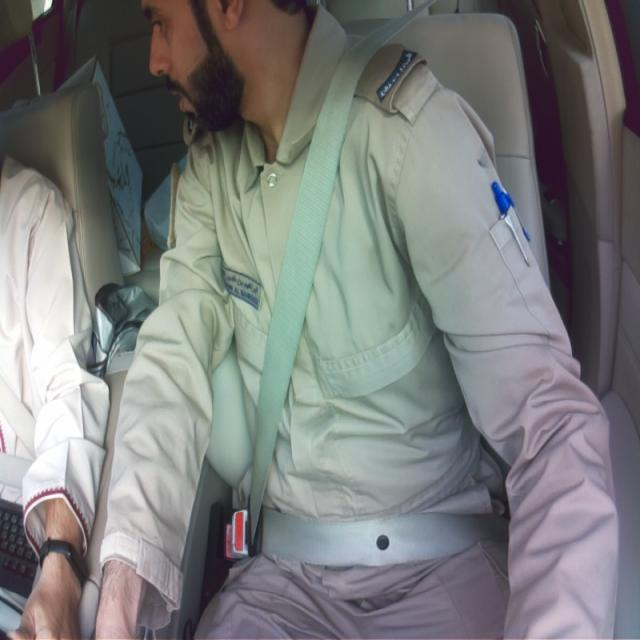seatbelt: (249, 13, 417, 544), (262, 508, 508, 567)
